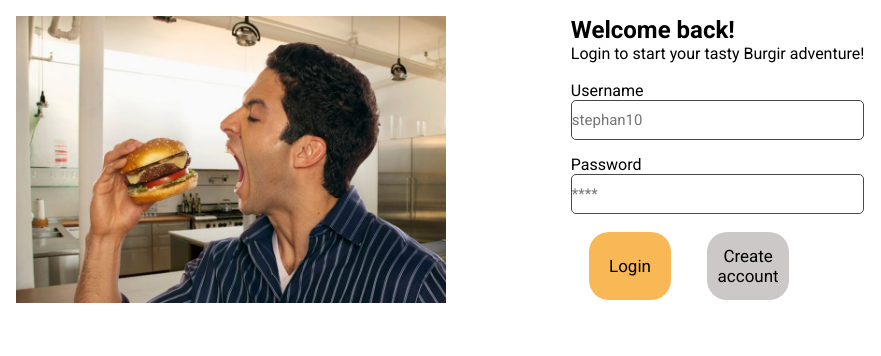
Test case: login component › submit with empty data
Click the button "Login" at (630, 266), box top-left (589, 232), bottom-right (671, 300)
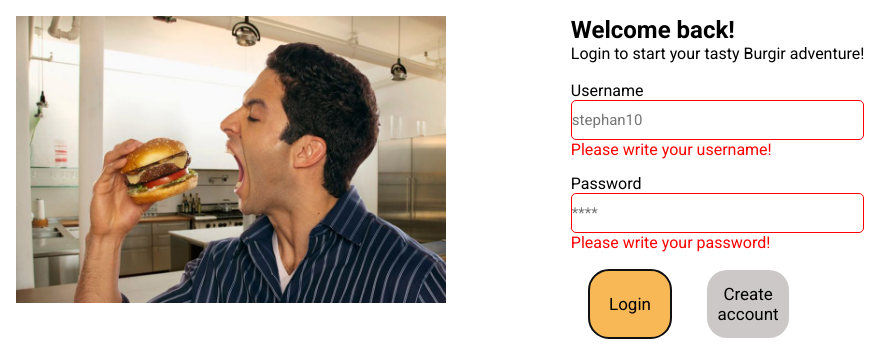
Now the text "Please write your username!" is shown, box top-left (571, 140), bottom-right (772, 159)
Now the text "Please write your password!" is shown, box top-left (571, 233), bottom-right (770, 252)
